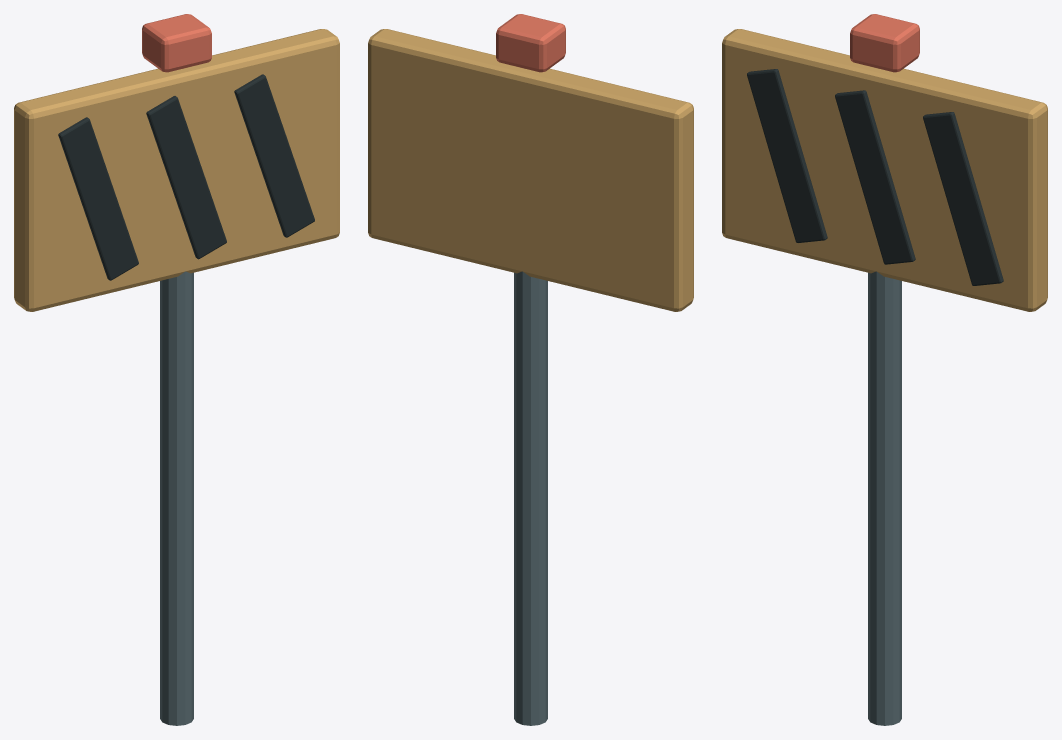
Rendered from sign.glb.
3 views of the same model, side by side, from view 1: azimuth 30°, elevation 25°; view 2: azimuth 150°, elevation 25°; view 3: azimuth 330°, elevation 25° (orthographic).
Visible parts, largest first — view 1: Warning board, Sign post, Hazard slash.002, Hazard slash, Hazard slash.001, Coral beacon; view 2: Warning board, Sign post, Coral beacon; view 3: Warning board, Sign post, Hazard slash.001, Hazard slash.002, Hazard slash, Coral beacon.
Boxes of the visible parts, box(x1,y1,x2,y2) form: Warning board: box(14, 29, 339, 311); Sign post: box(160, 271, 193, 725); Hazard slash.002: box(234, 74, 314, 237); Hazard slash: box(58, 117, 138, 280); Hazard slash.001: box(146, 96, 226, 259); Coral beacon: box(142, 14, 211, 72); Warning board: box(368, 29, 693, 311); Sign post: box(514, 271, 547, 725); Coral beacon: box(496, 14, 565, 72); Warning board: box(722, 29, 1047, 311); Sign post: box(868, 271, 901, 725); Hazard slash.001: box(835, 90, 915, 264); Hazard slash.002: box(923, 112, 1003, 285); Hazard slash: box(747, 69, 827, 242); Coral beacon: box(850, 14, 919, 72).
Bounding box in the file's own units: 0.75 × 1.58 × 0.1.
